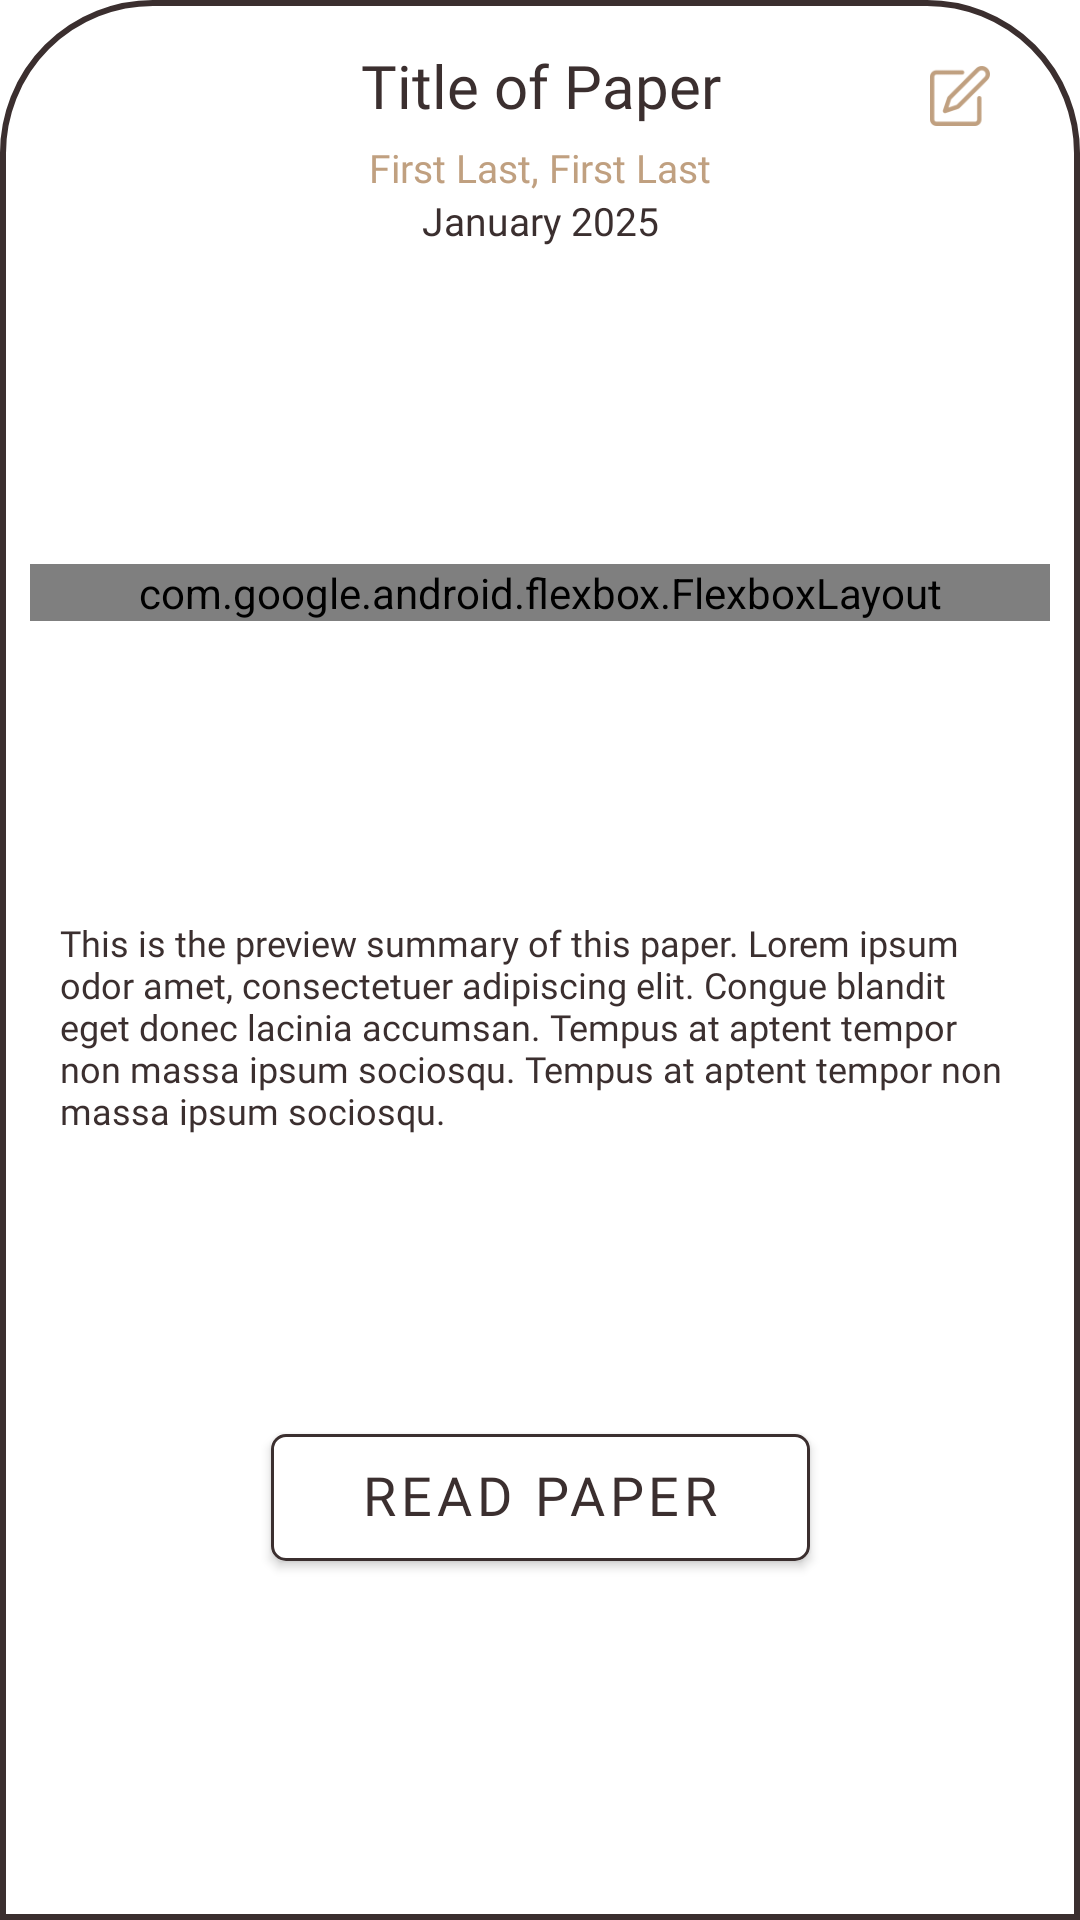

Icon bounding boxes for this 1080px x 1920px phone screenshot, format Rect(x1, y1, x2, y2):
Edit Paper Details: Rect(930, 66, 990, 126)
